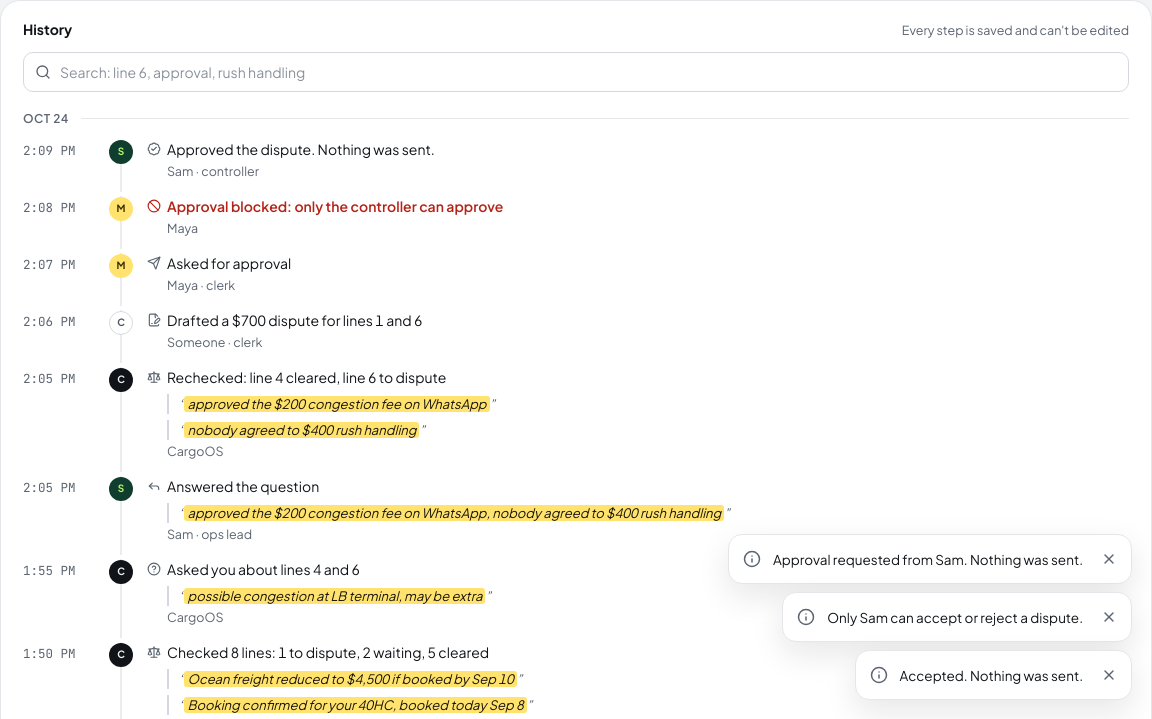
HistoryTab › search filters the steps: by line, by words in quotes, and says when nothing matches
This screenshot has width=1152, height=719.
Step 1. Type "line 6" into the search field named "Search history" → (576, 72), box [23,52,1129,92]
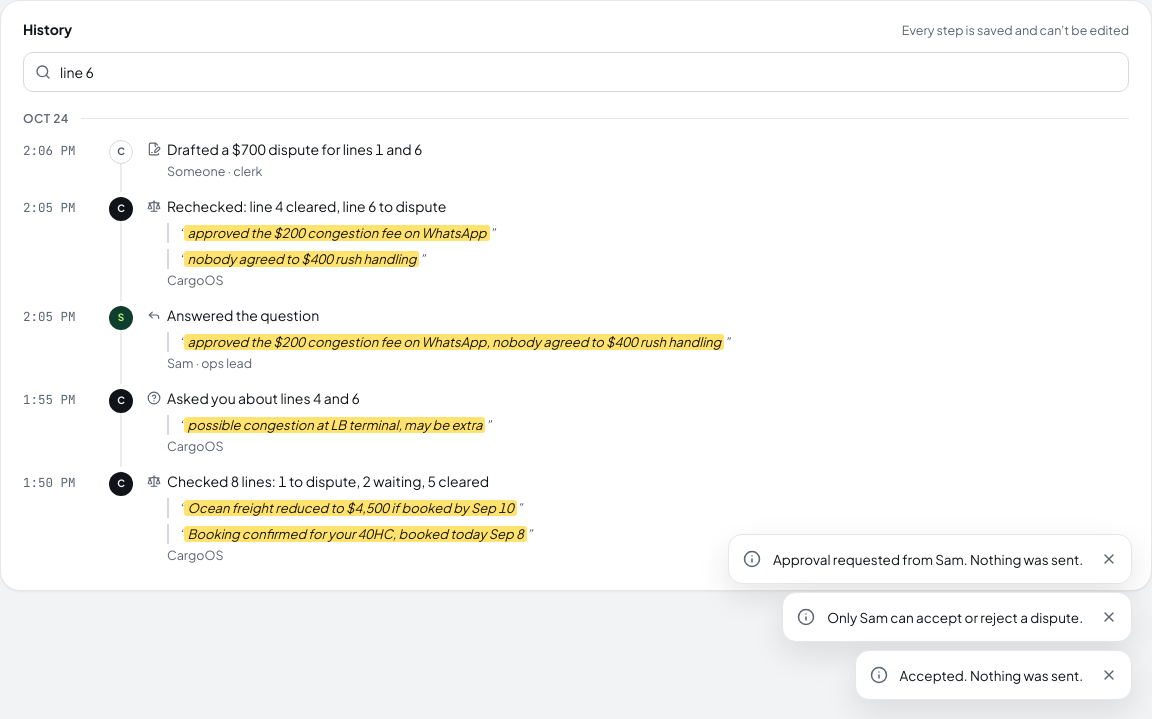
Step 2. Replace the text in the search field named "Search history" with "rush handling" → (576, 72), box [23,52,1129,92]
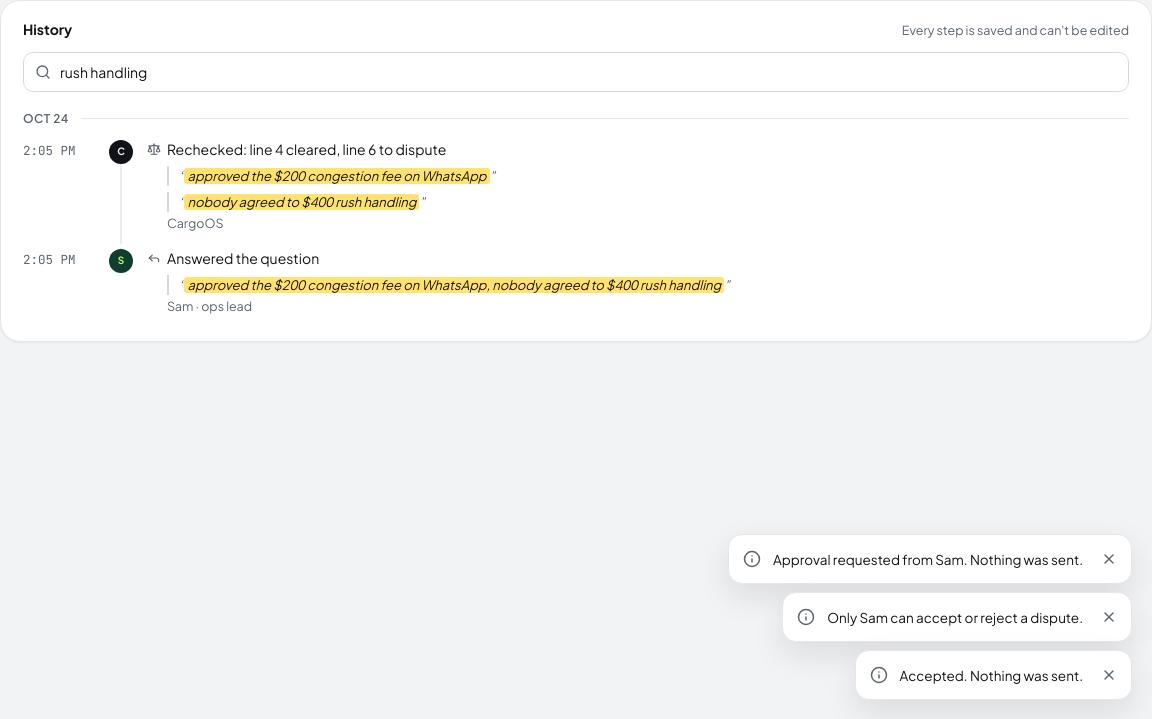
Expected: the list item that starts with "Oct 24" is shown, [23,96,1129,248]
Step 3. Replace the text in the search field named "Search history" with "zzz-not-there" → (576, 72), box [23,52,1129,92]
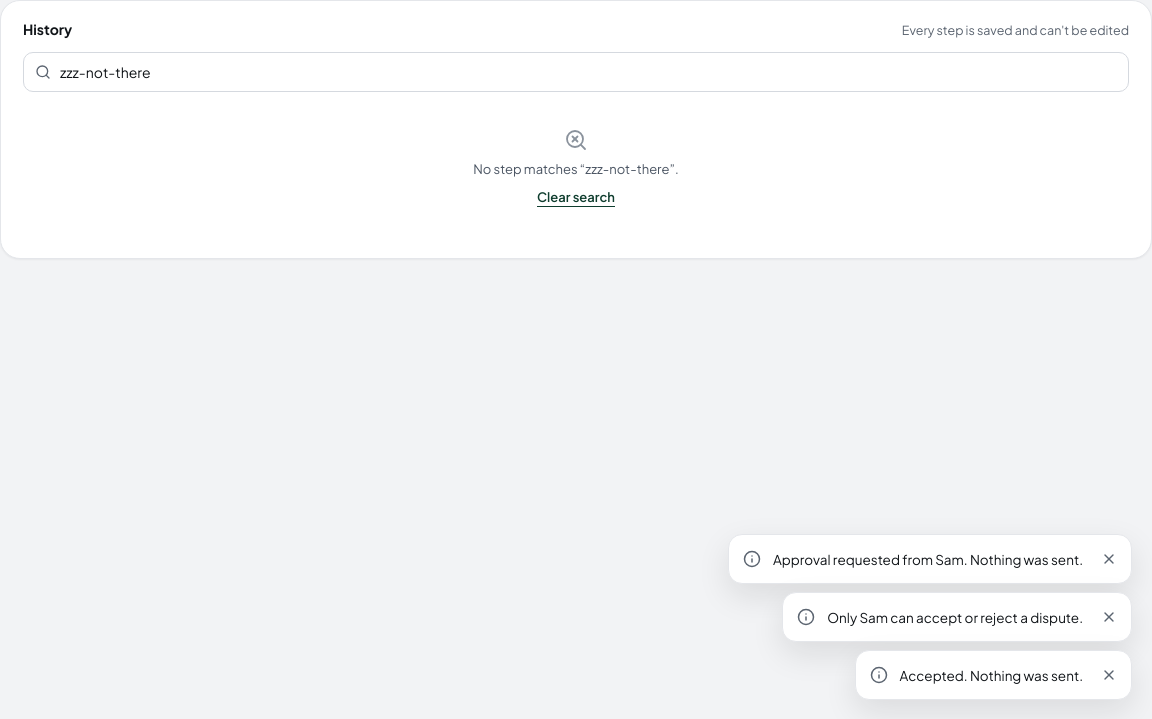
Now no list items are shown
Now the text "No step matches “zzz-not-there”." is shown, box [473,160,679,179]
Step 4. Clear the search field named "Search history" → (576, 72), box [23,52,1129,92]
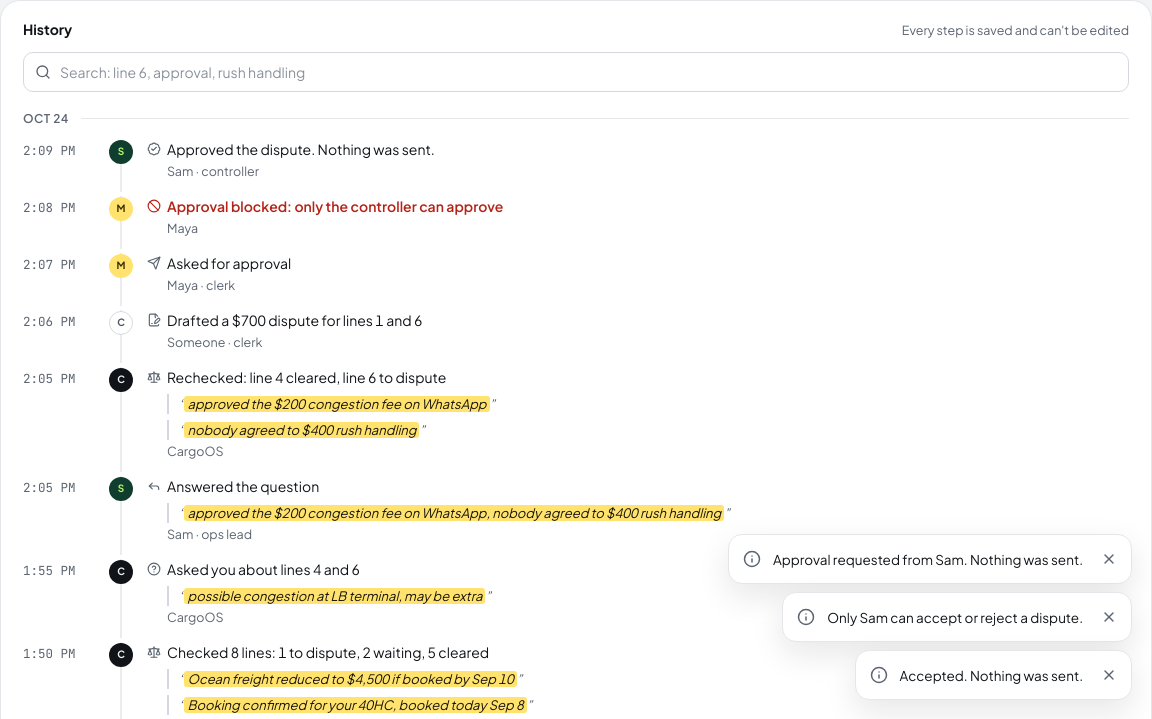
Now the number of list items is 16
